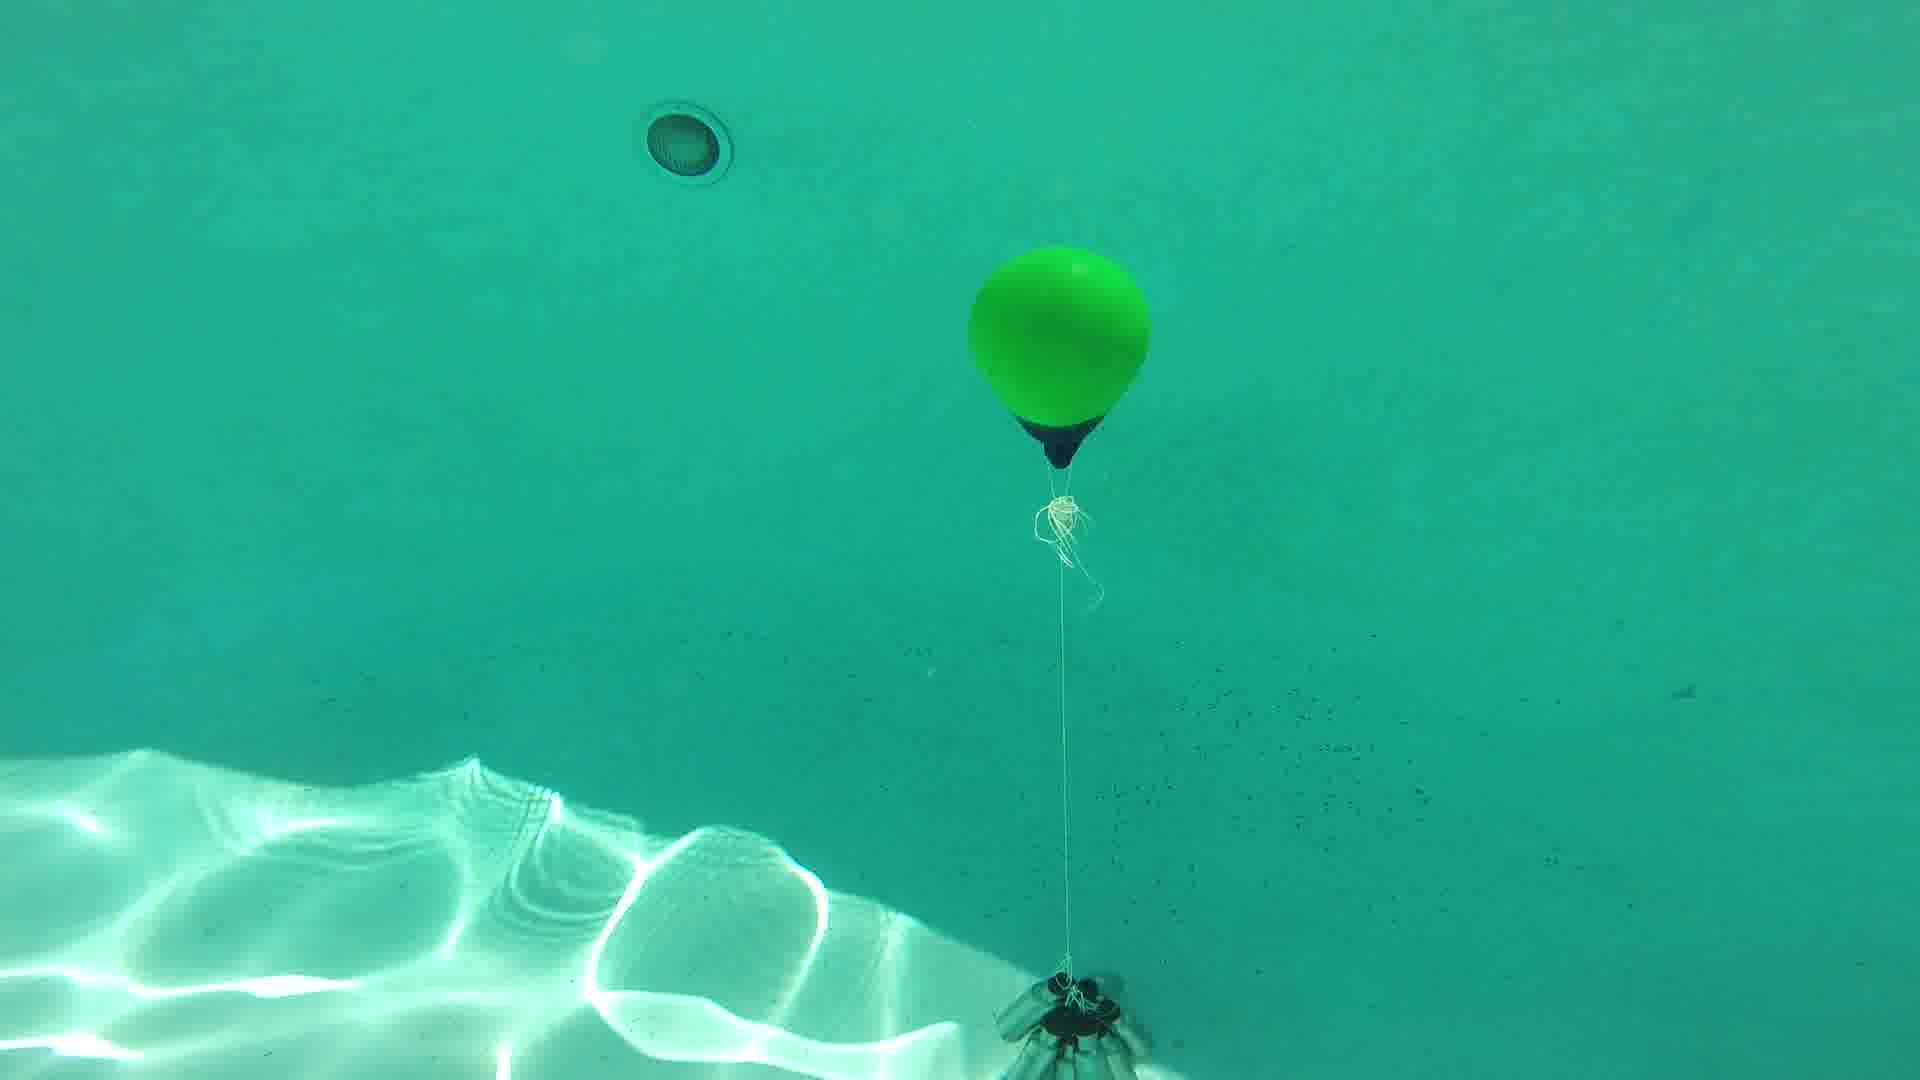yellow_buoy: (968, 244, 1153, 471)
